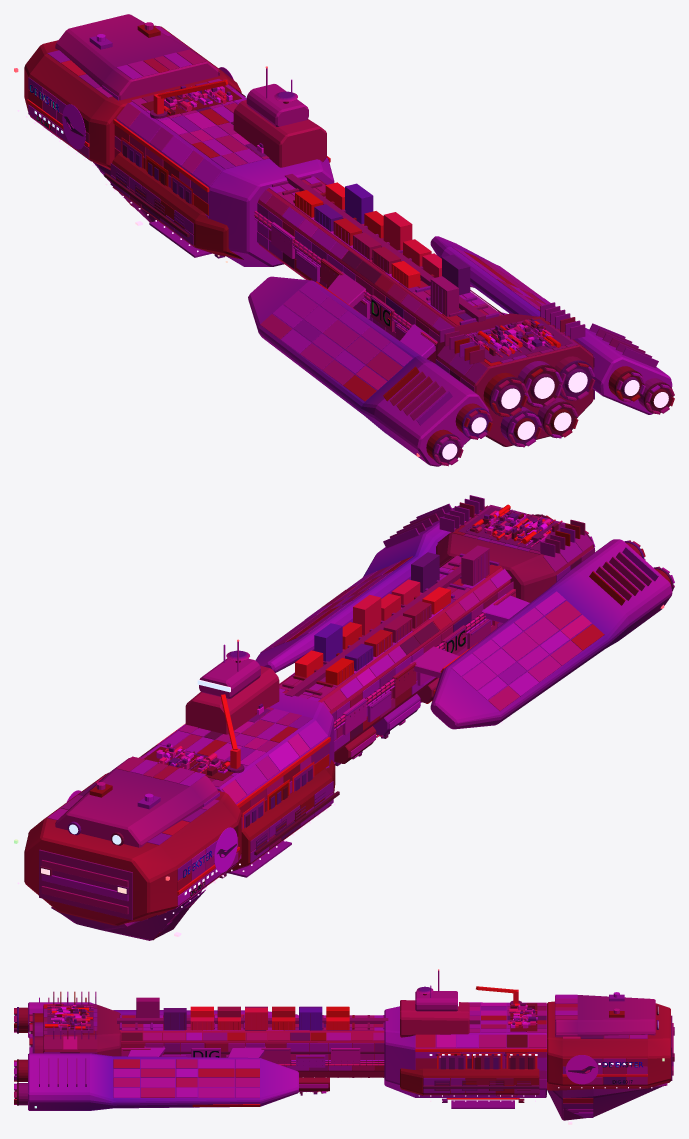
File: ekster_exterior.glb
The picture shows the model from 3 angles, top to bottom: view 1: azimuth 30°, elevation 25°; view 2: azimuth 150°, elevation 25°; view 3: azimuth 270°, elevation 25°; orthographic projection. The views are drawn at different scales.
Parts seen in each view (by area): view 1: Detail, Arm-1, Brow, Mid, Prow, Arm1, EngineBlock, Bridge, MidLower, Spine, BridgeTop, Pylon-124.0 (+2 smaller); view 2: Detail, Arm-1, Prow, Brow, Arm1, EngineBlock, Bridge, Mid, MidLower, Spine, Jaw, BridgeTop (+3 smaller); view 3: Detail, Arm1, Prow, Brow, Mid, Spine, MidLower, Bridge, Jaw, EngineBlock, BridgeTop, EmblemBack1 (+4 smaller).
Part boxes in pixels (x1,y1,x2,y2): Detail: (14, 22, 674, 466); Arm-1: (248, 276, 489, 466); Brow: (55, 14, 218, 100); Mid: (116, 80, 334, 266); Prow: (24, 25, 241, 170); Arm1: (430, 236, 672, 414); EngineBlock: (436, 313, 593, 446); Bridge: (233, 100, 326, 167); MidLower: (112, 152, 243, 259); Spine: (257, 177, 501, 360); BridgeTop: (246, 84, 308, 126); Pylon-124.0: (327, 271, 365, 307); Detail: (14, 495, 674, 940); Arm-1: (430, 539, 672, 729); Prow: (24, 772, 241, 925); Brow: (55, 757, 218, 847); Arm1: (255, 505, 479, 672); EngineBlock: (436, 506, 593, 602); Bridge: (185, 665, 279, 734); Mid: (140, 692, 334, 860); MidLower: (227, 759, 335, 871); Spine: (279, 565, 510, 753); Jaw: (51, 890, 201, 940); BridgeTop: (199, 658, 260, 698); Detail: (14, 969, 674, 1124); Arm1: (28, 1053, 298, 1110); Prow: (547, 1001, 670, 1090); Brow: (555, 995, 655, 1036); Mid: (384, 1003, 546, 1097); Spine: (120, 1016, 384, 1077); MidLower: (400, 1068, 539, 1095); Bridge: (400, 1000, 469, 1037); Jaw: (547, 1083, 667, 1120); EngineBlock: (43, 1004, 120, 1056); BridgeTop: (415, 991, 457, 1011); EmblemBack1: (565, 1055, 598, 1084).
Size of the model in its own units: 53.21 by 43.71 by 171.
